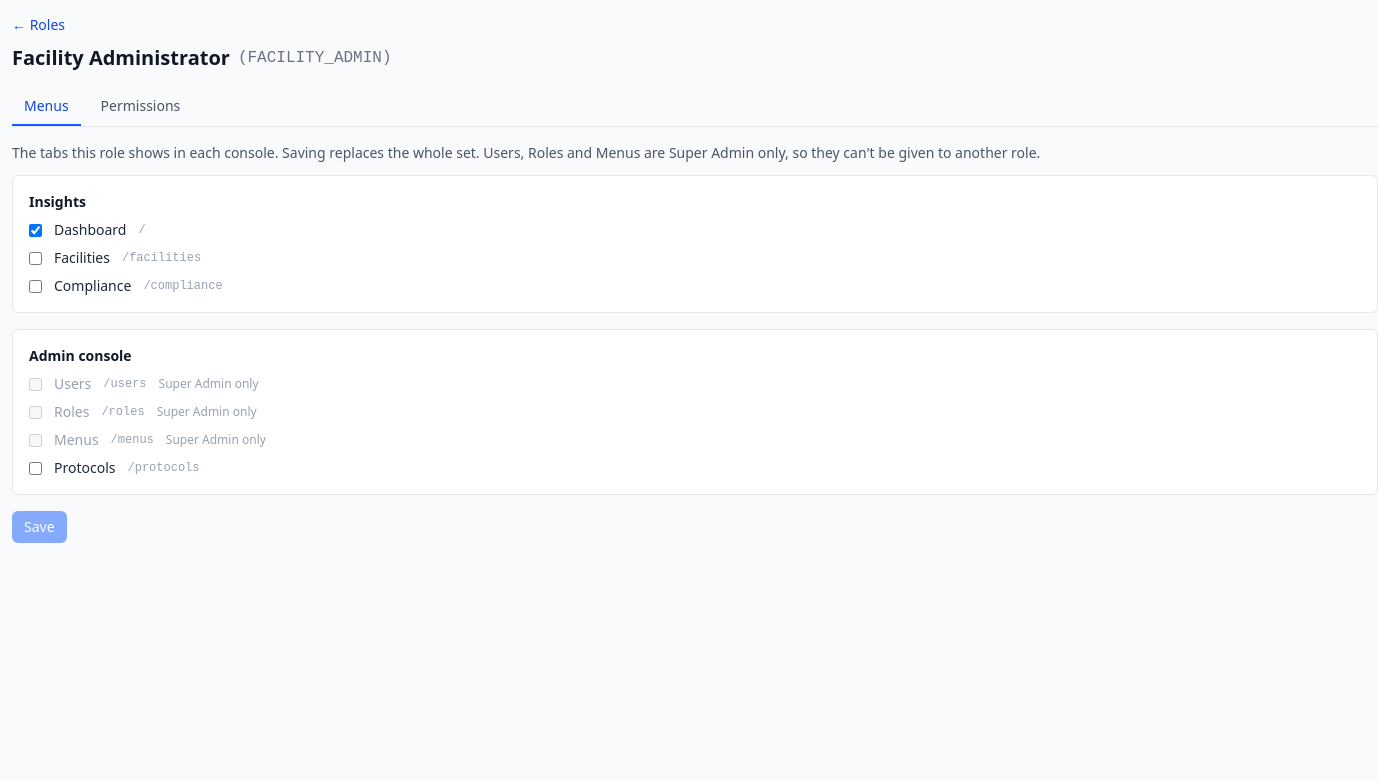
Test case: RoleDetailPage — Menus tab › keeps Save disabled until the selection actually differs from what was fetched
expect the checkbox labelled "Dashboard /" is shown: met, box [29, 224, 42, 236]
expect the button "Save" is disabled: met, box [12, 511, 67, 543]
Click the checkbox labelled "Facilities /facilities" at (36, 258), box [29, 252, 42, 264]
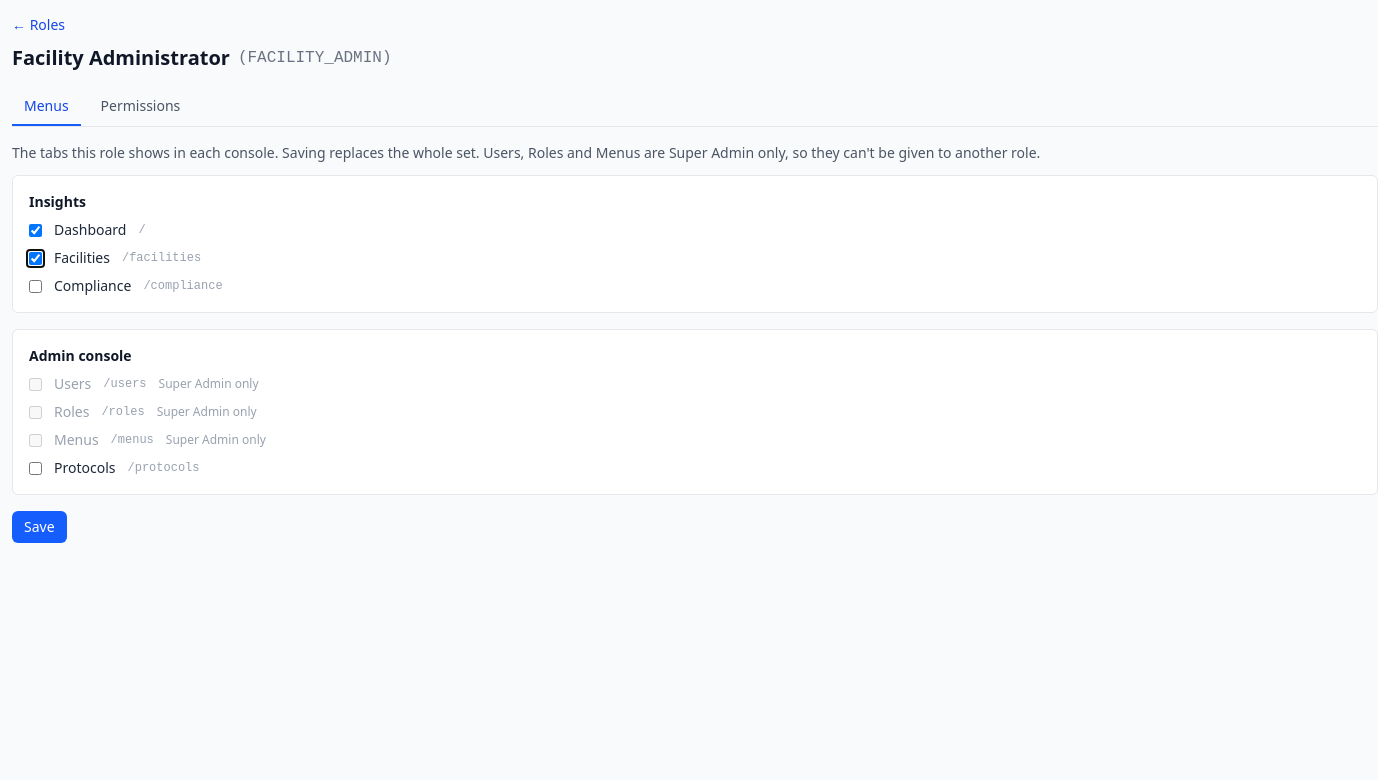
expect the button "Save" is enabled: met, box [12, 511, 67, 543]
Click the checkbox labelled "Facilities /facilities" at (36, 258), box [29, 252, 42, 264]
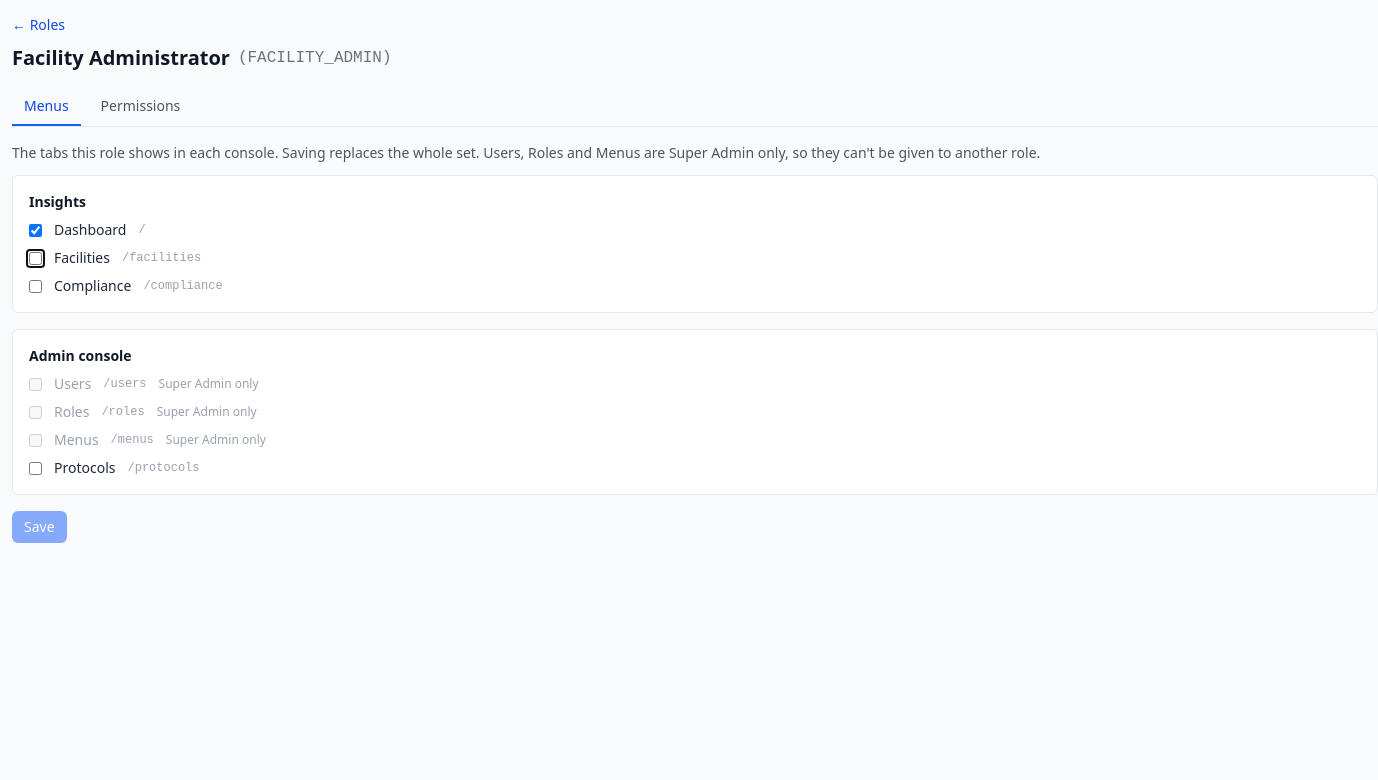
expect the button "Save" is disabled: met, box [12, 511, 67, 543]
